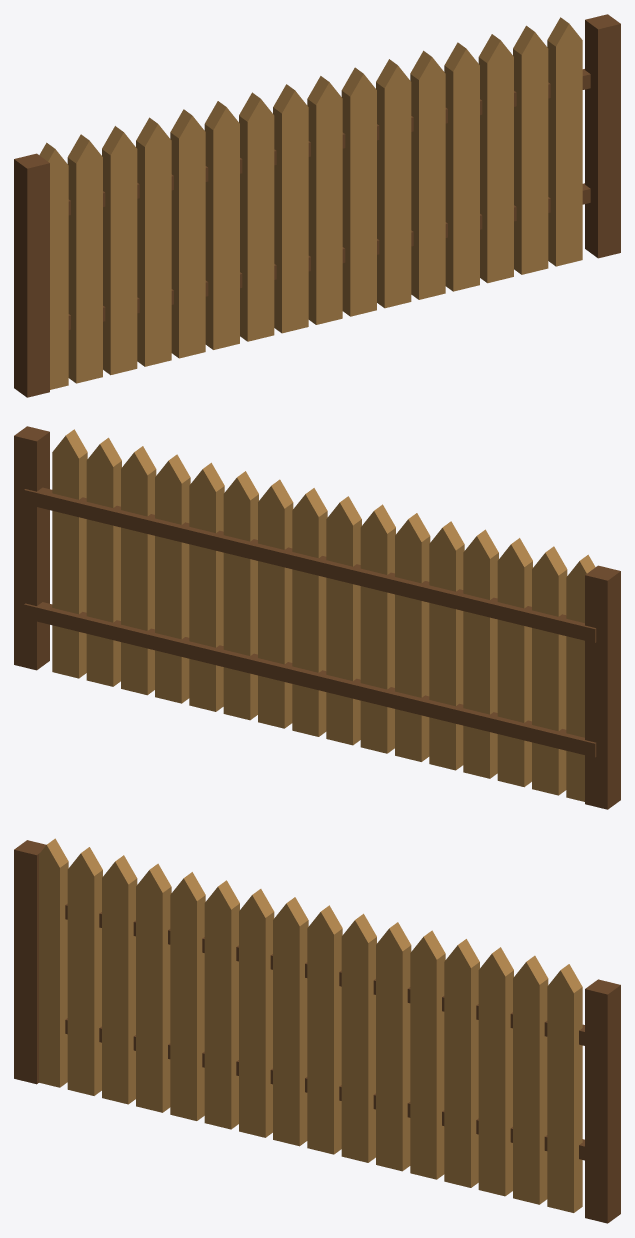
Rendered from DomesticFence.obj.
3 views of the same model, one above another, from view 1: azimuth 30°, elevation 25°; view 2: azimuth 150°, elevation 25°; view 3: azimuth 330°, elevation 25° (orthographic).
Visible parts, largest first — view 1: DomesticFence; view 2: DomesticFence; view 3: DomesticFence.
Part boxes in pixels (x1,y1,x2,y2): DomesticFence: (14,14,620,397); DomesticFence: (14,426,620,809); DomesticFence: (14,838,620,1223).
Bounding box in the file's own units: 3.12 × 1.2 × 0.1325.
